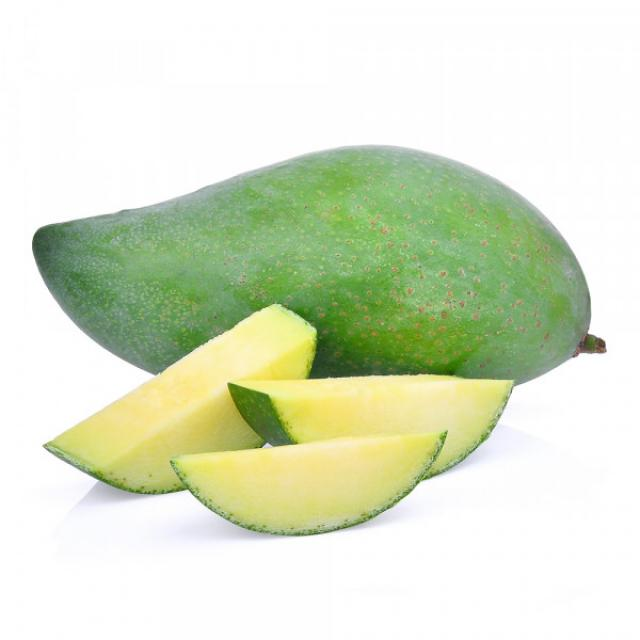raw-image: (16, 132, 640, 418)
